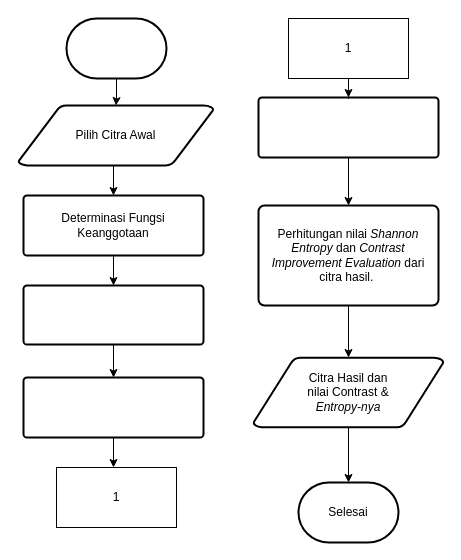
Image size: 461x560. Some labels were removed from this diagram. The shapes that lost their labels are listed below. From the top down, each one's box as (x1, y1, x2, y2) in pixels, then its label:
(65, 17, 167, 79): Mulai
(257, 96, 439, 158): Clipping dan ekualisasi histogram.
(22, 284, 204, 345): Perhitungan derajat keanggotaan dan nilai intensitas referensi.
(22, 376, 204, 438): Mendefinisikan 3 fungsi plateau dan melakukan komputasi Clipping limit.
